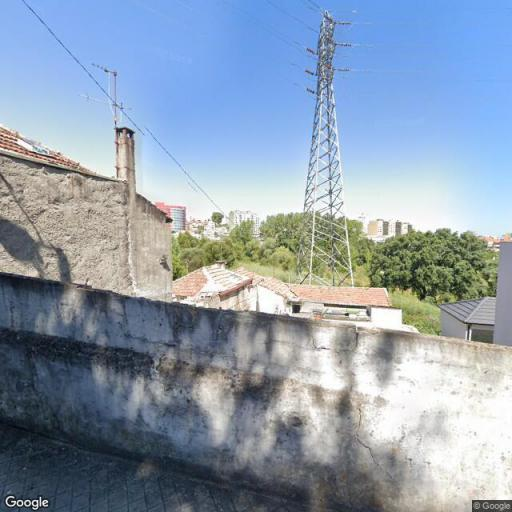ss_3: (296, 12, 357, 286)
